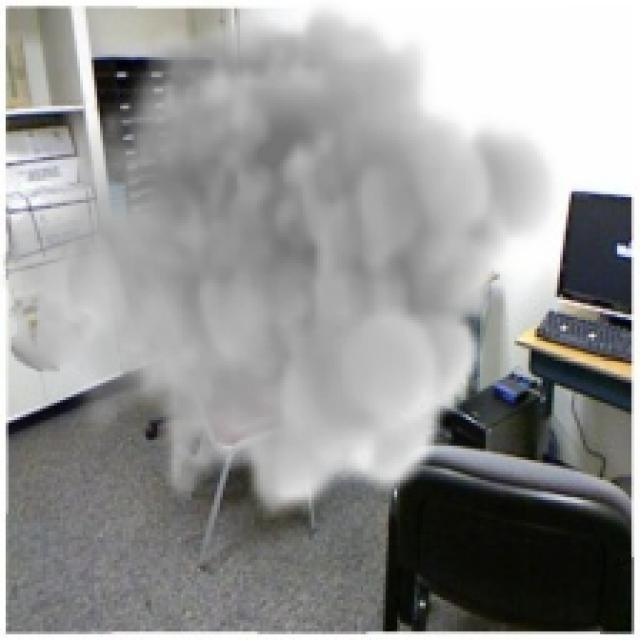Smoke: (0, 0, 566, 520)
